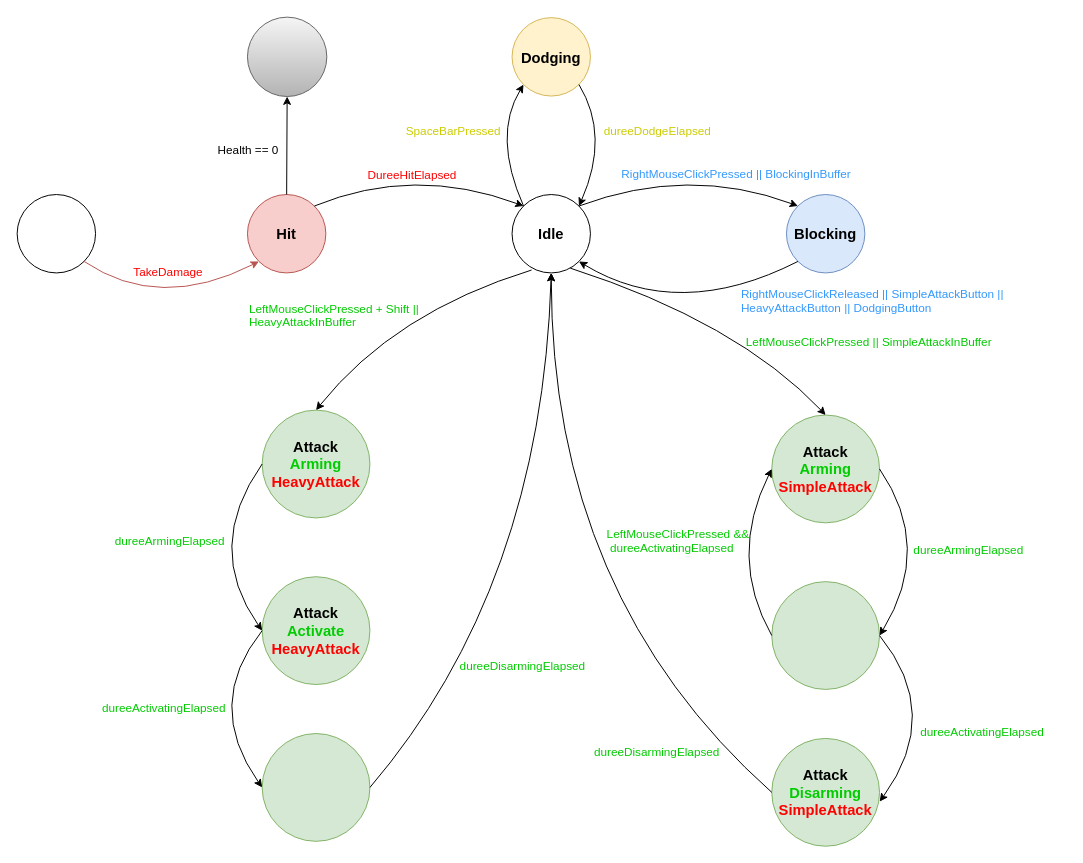
Some shapes in this 1083 by 863 pixel diagram are drawn without their labels. Each missing label, with the box of its shape:
Anywhere: (16, 194, 96, 273)
Attack Activate SimpleAttack: (771, 581, 880, 689)
Attack Disarming HeavyAttack: (261, 733, 370, 841)
Dead: (246, 16, 327, 97)
